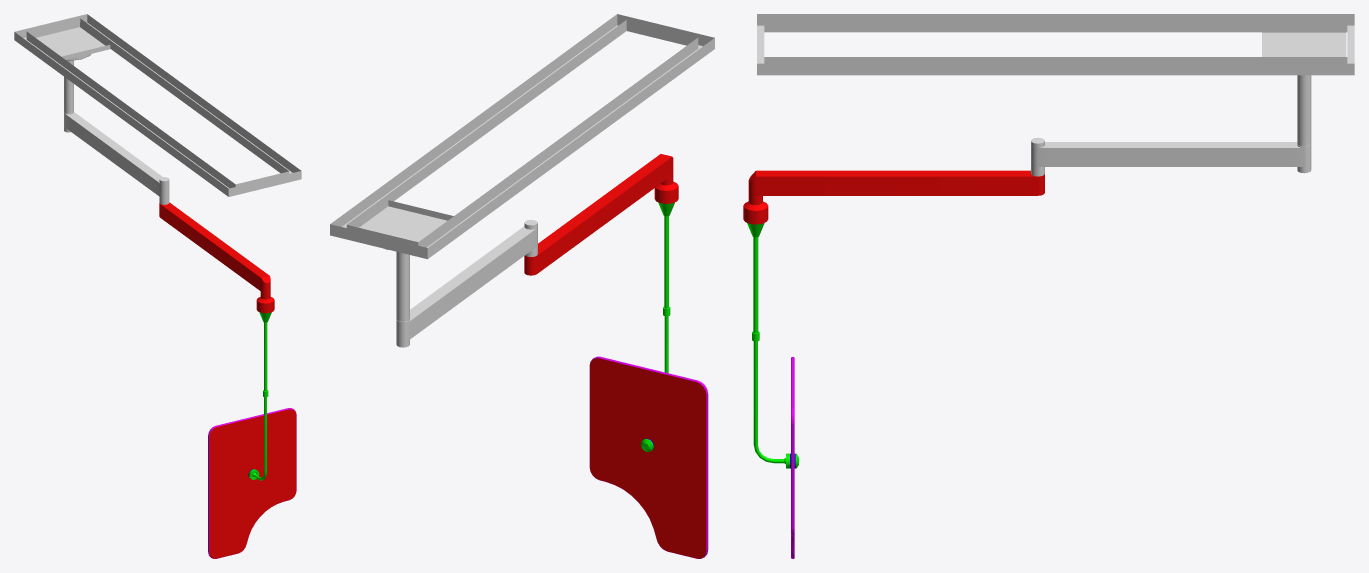
The model's file is Shield_Hanging.FBX.
3 renders of one model, left to right at view 1: azimuth 30°, elevation 25°; view 2: azimuth 150°, elevation 25°; view 3: azimuth 270°, elevation 25°, orthographic. The views are drawn at different scales.
Visible parts, largest first — view 1: Shield, Hanging Shield, Arm B, Arm A, Swivel; view 2: Shield, Hanging Shield, Arm B, Arm A, Swivel; view 3: Hanging Shield, Arm B, Arm A, Swivel, Shield.
Part boxes in pixels (x1=…): Shield: x1=208, y1=397, x2=296, y2=558; Hanging Shield: x1=14, y1=14, x2=301, y2=196; Arm B: x1=159, y1=202, x2=274, y2=397; Arm A: x1=64, y1=111, x2=169, y2=204; Swivel: x1=31, y1=22, x2=110, y2=113; Shield: x1=589, y1=316, x2=708, y2=558; Hanging Shield: x1=330, y1=14, x2=714, y2=259; Arm B: x1=524, y1=154, x2=678, y2=316; Arm A: x1=396, y1=219, x2=537, y2=347; Swivel: x1=353, y1=200, x2=453, y2=321; Hanging Shield: x1=757, y1=14, x2=1354, y2=75; Arm B: x1=743, y1=170, x2=1044, y2=341; Arm A: x1=1031, y1=137, x2=1311, y2=176; Swivel: x1=1262, y1=26, x2=1346, y2=146; Shield: x1=753, y1=341, x2=798, y2=558.
Size of the model in its own units: 20.1 by 82.98 by 86.94.
